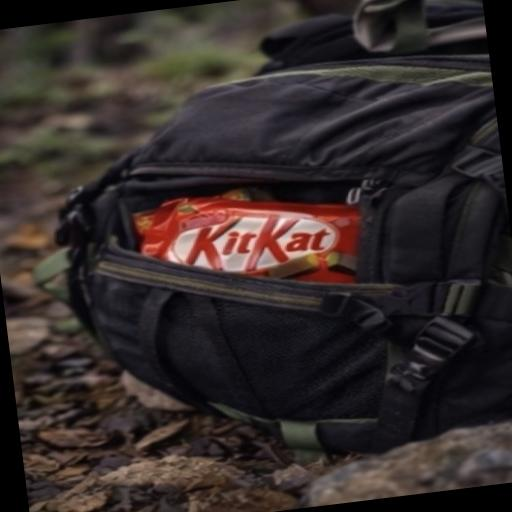kitkat: (85, 130, 436, 355)
